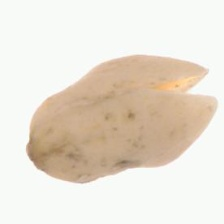L1: (159, 61, 219, 107), (23, 123, 47, 171)
L2: (25, 54, 218, 183)
